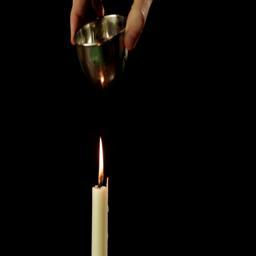fire: (98, 138, 104, 183)
